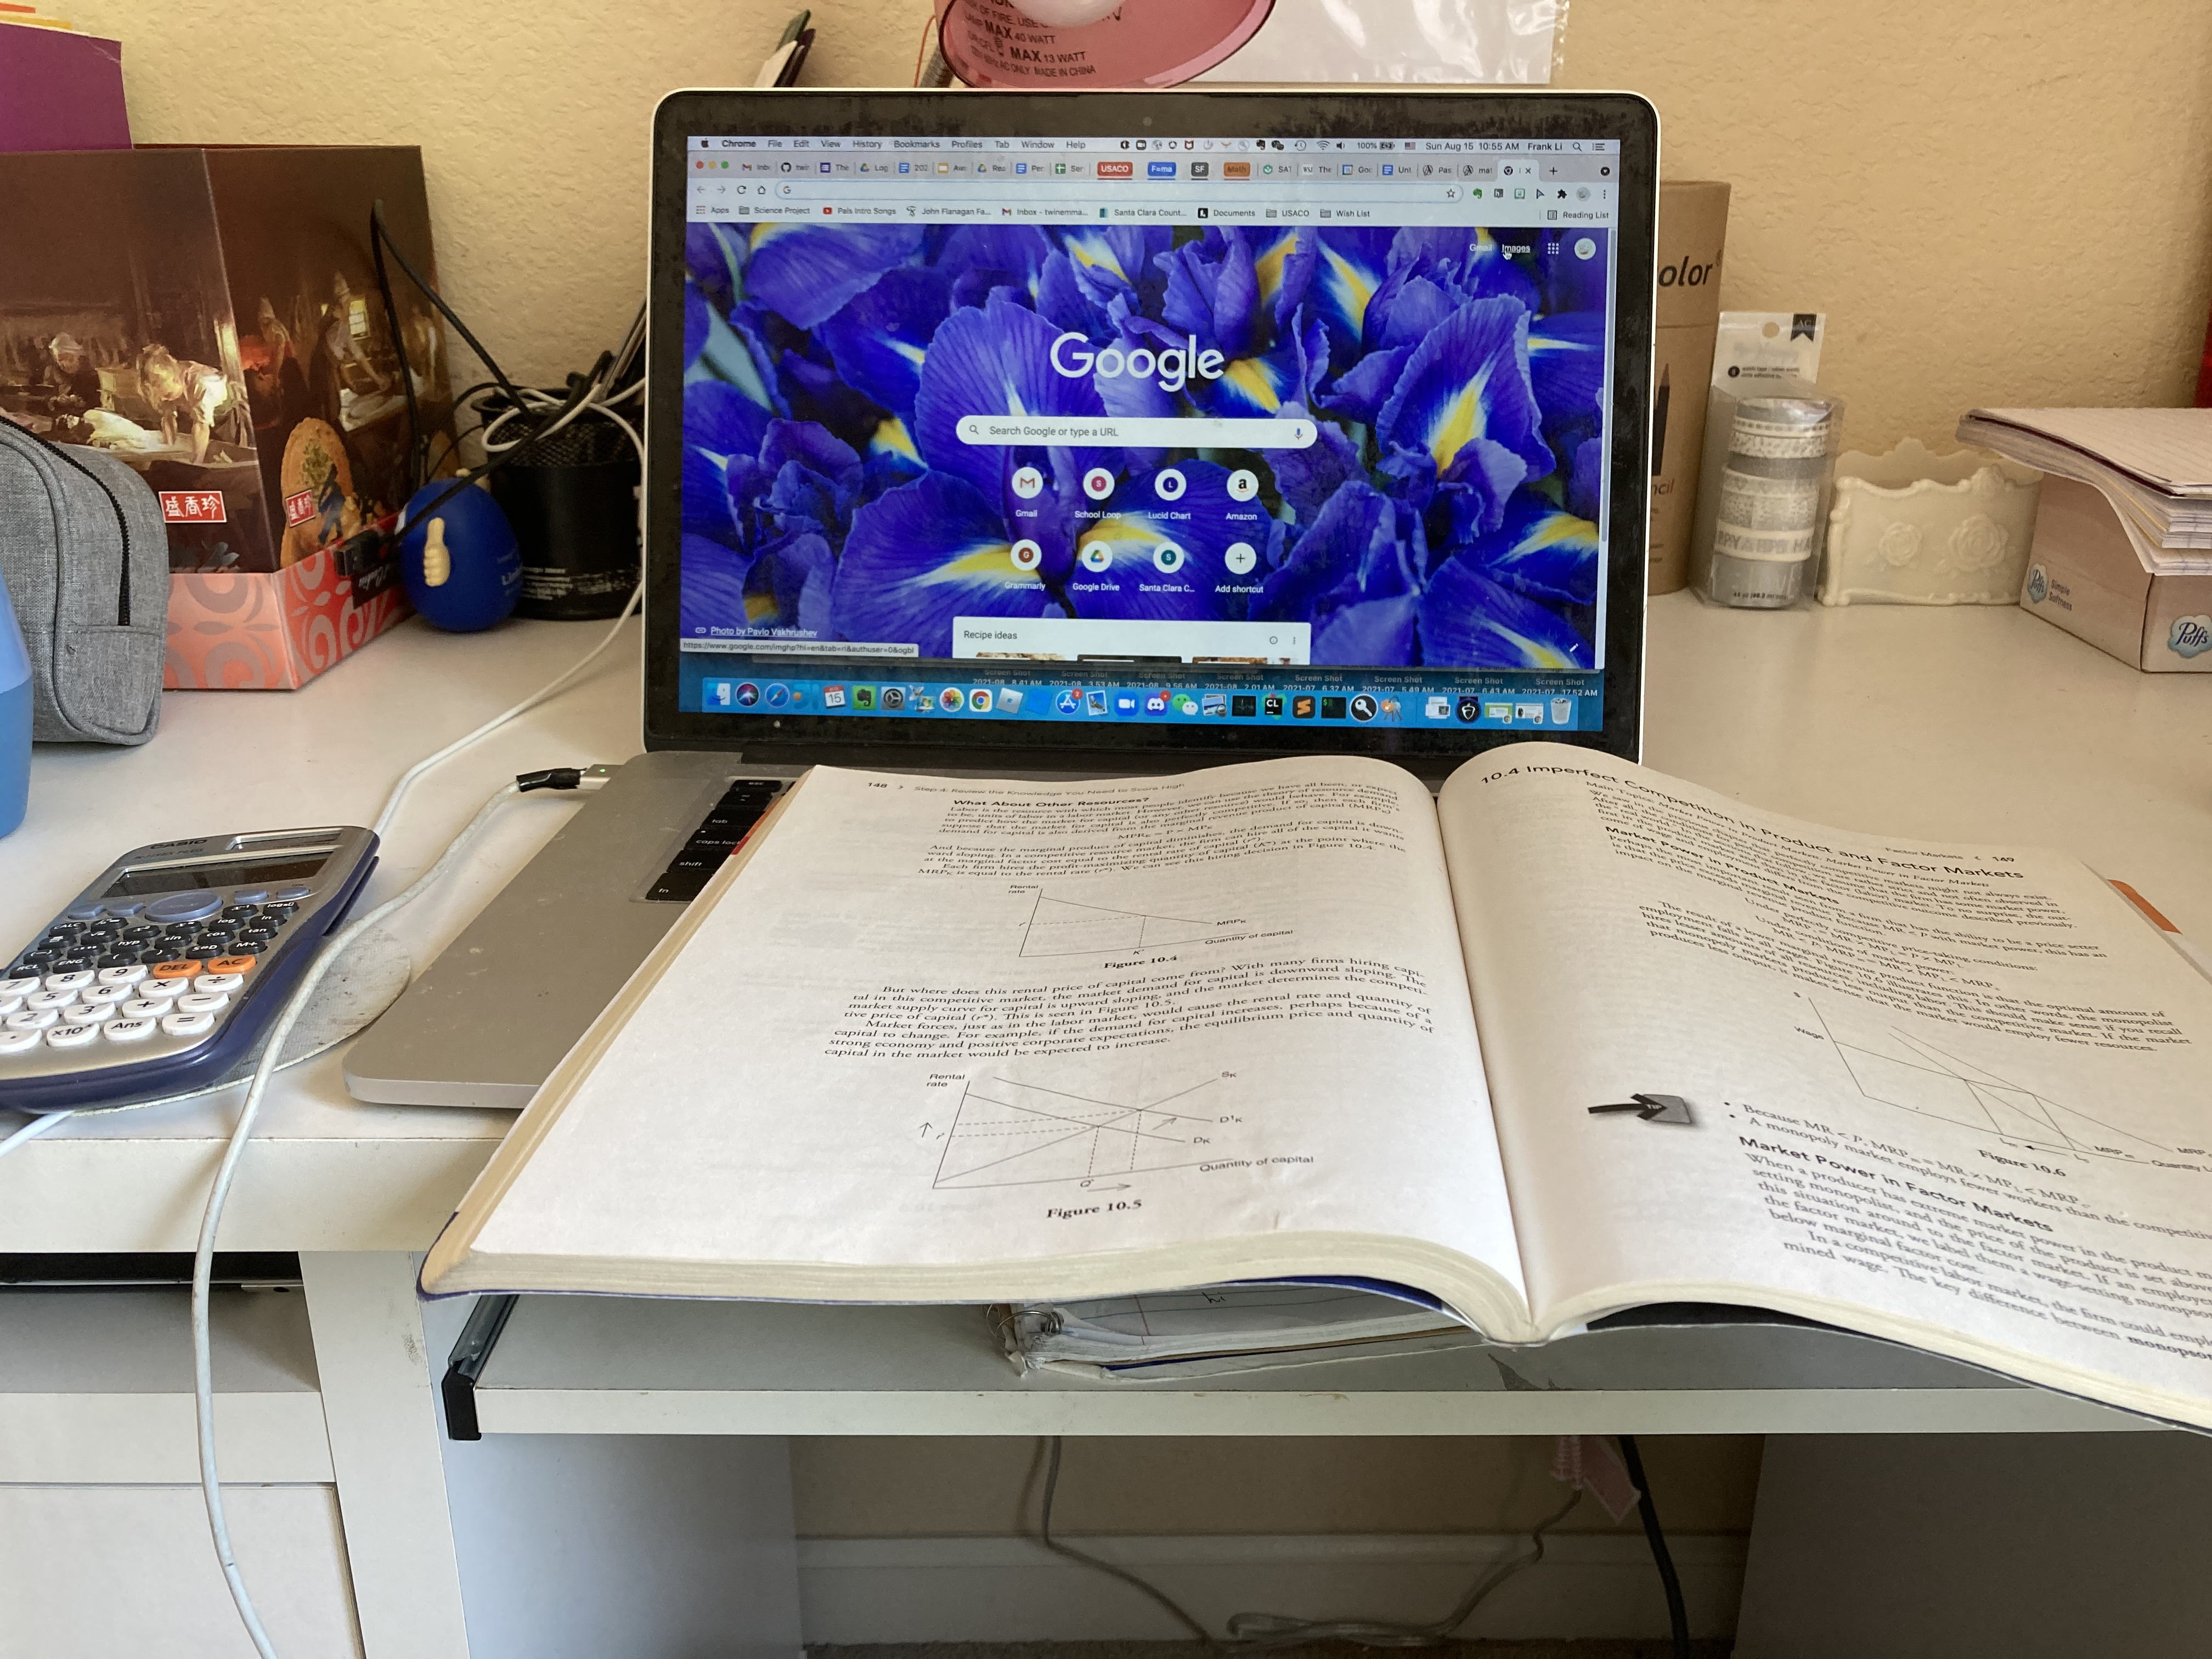Calculator: (7, 823, 376, 1110)
Open Book: (420, 732, 2212, 1417)
